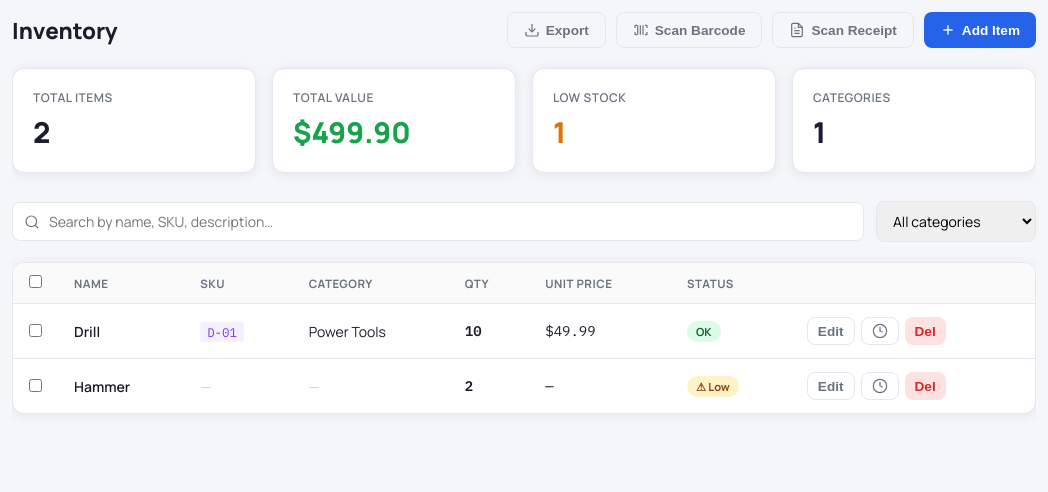
Test: InventoryPage — bulk selection › hides bulk bar when selection is cleared
Expected: the text "Drill" is shown, [74,322,100,340]
Click the checkbox next to "Drill" at (36, 330), box [29,324,42,336]
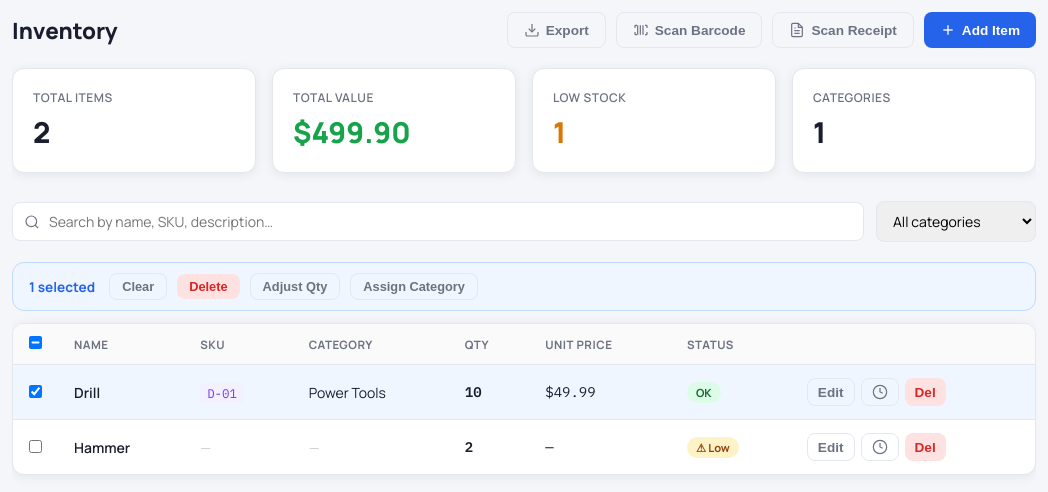
Now the text "1 selected" is shown, box [29,278,95,296]
Click the button "Clear" at (138, 286), box [109,273,167,300]
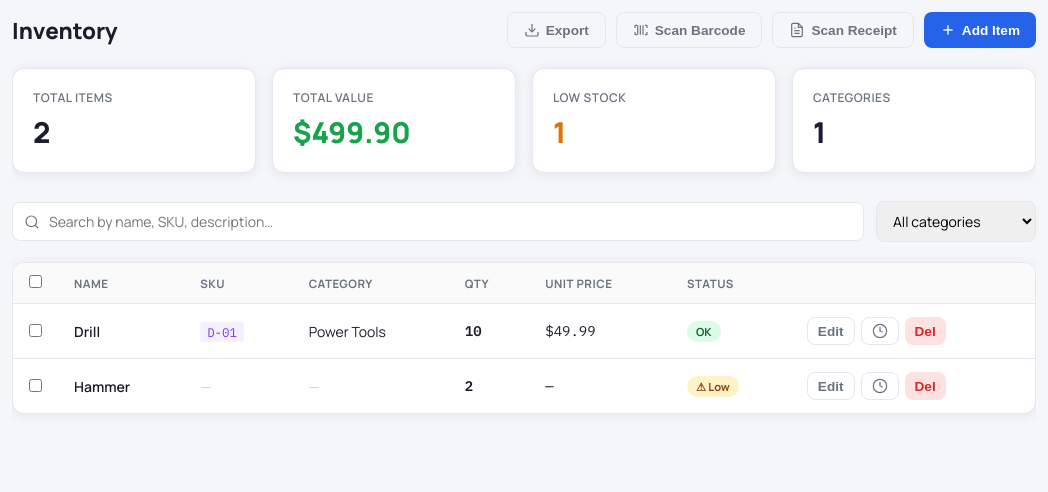
Now the text "1 selected" is gone
